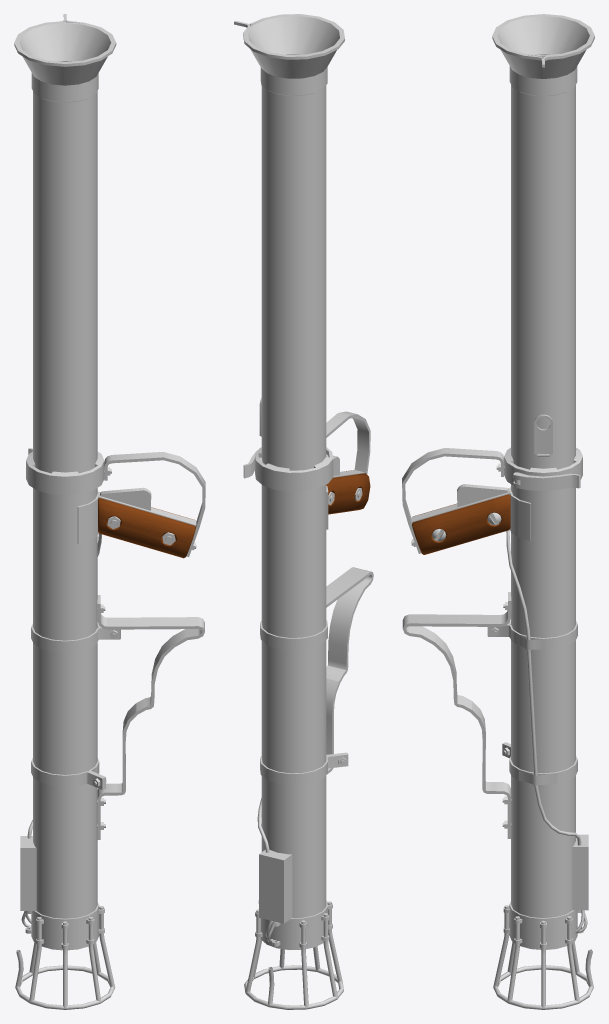
File: Bazooka_Preview.fbx
3 views of the same model, side by side, from view 1: azimuth 90°, elevation 25°; view 2: azimuth 150°, elevation 25°; view 3: azimuth 270°, elevation 25° (orthographic).
Visible parts, largest first — view 1: Cylinder.002; view 2: Cylinder.002; view 3: Cylinder.002.
Boxes of the visible parts, left/top/right/bottom form: Cylinder.002: left=14, top=14, right=205, bottom=1009; Cylinder.002: left=234, top=14, right=373, bottom=1009; Cylinder.002: left=402, top=14, right=594, bottom=1009.
Bounding box in the file's own units: 0.7425 × 6.52 × 1.19.
